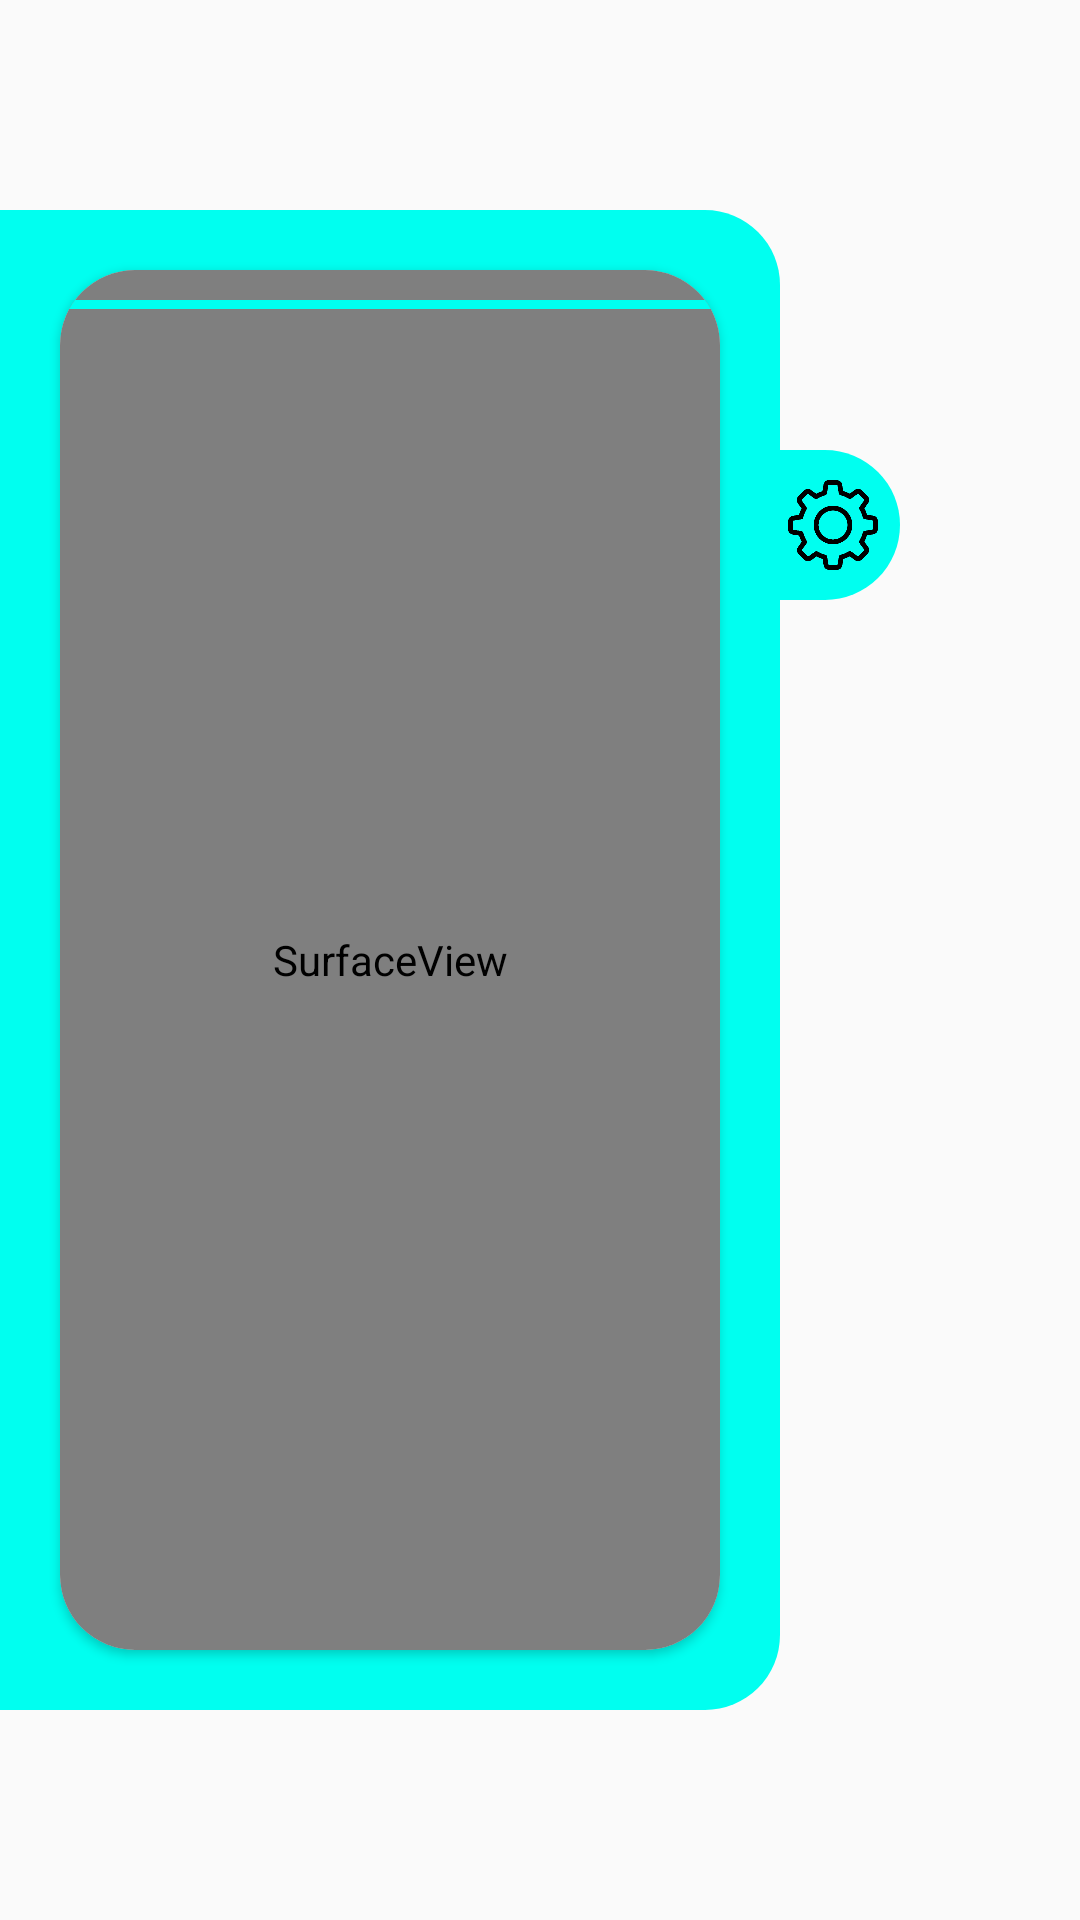

Icon click points for this 1080 x 1920 phone screenshot, format point (x, y):
gear: point (833, 525)
